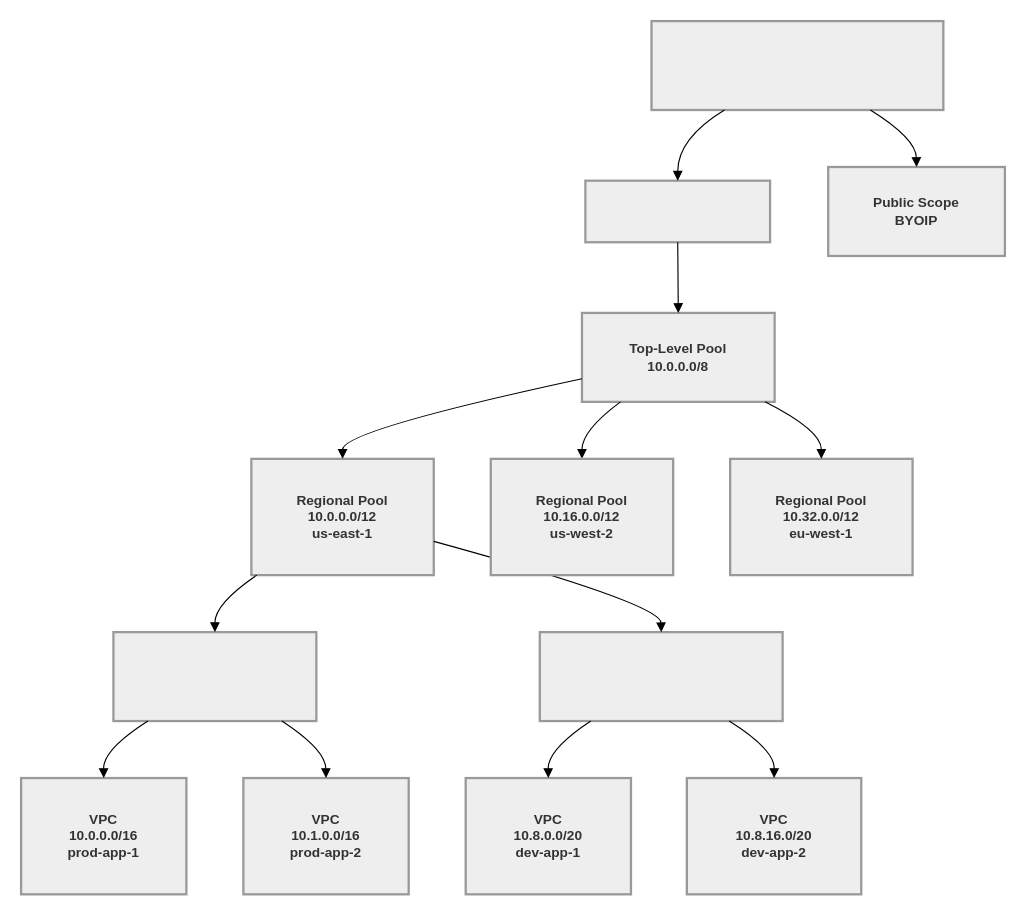
The diagram is 1025 pixels wide and 914 high, and some of its shapes have lost their labels. The centre of each missing label's shape, as x and y in pixels:
"AWS IPAM Centralized IP Management" belongs at [797,65].
"Non-Production Pool 10.8.0.0/13" belongs at [660,676].
"Private Scope" belongs at [677,211].
"Production Pool 10.0.0.0/13" belongs at [214,676].
